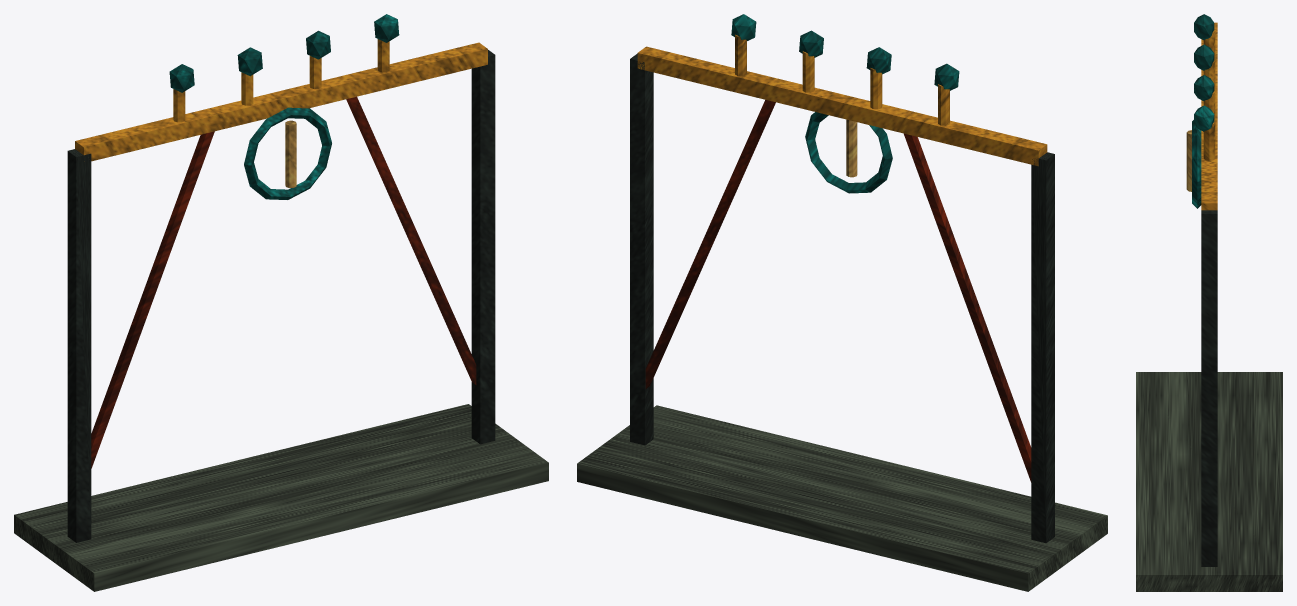
File: rush-relay-r4-frame.glb
The picture shows the model from 3 angles, left to right: view 1: azimuth 30°, elevation 25°; view 2: azimuth 150°, elevation 25°; view 3: azimuth 270°, elevation 25°; orthographic projection. The views are drawn at different scales.
Visible parts, largest first — view 1: rush-relay-r4-frame; view 2: rush-relay-r4-frame; view 3: rush-relay-r4-frame.
Part boxes in pixels (bbox=[...]): rush-relay-r4-frame: bbox=[14, 14, 548, 591]; rush-relay-r4-frame: bbox=[577, 14, 1107, 591]; rush-relay-r4-frame: bbox=[1136, 14, 1282, 591].
Bounding box in the file's own units: 7.2 × 7.12 × 2.2.
Materials: 1 (1 with a texture image).
